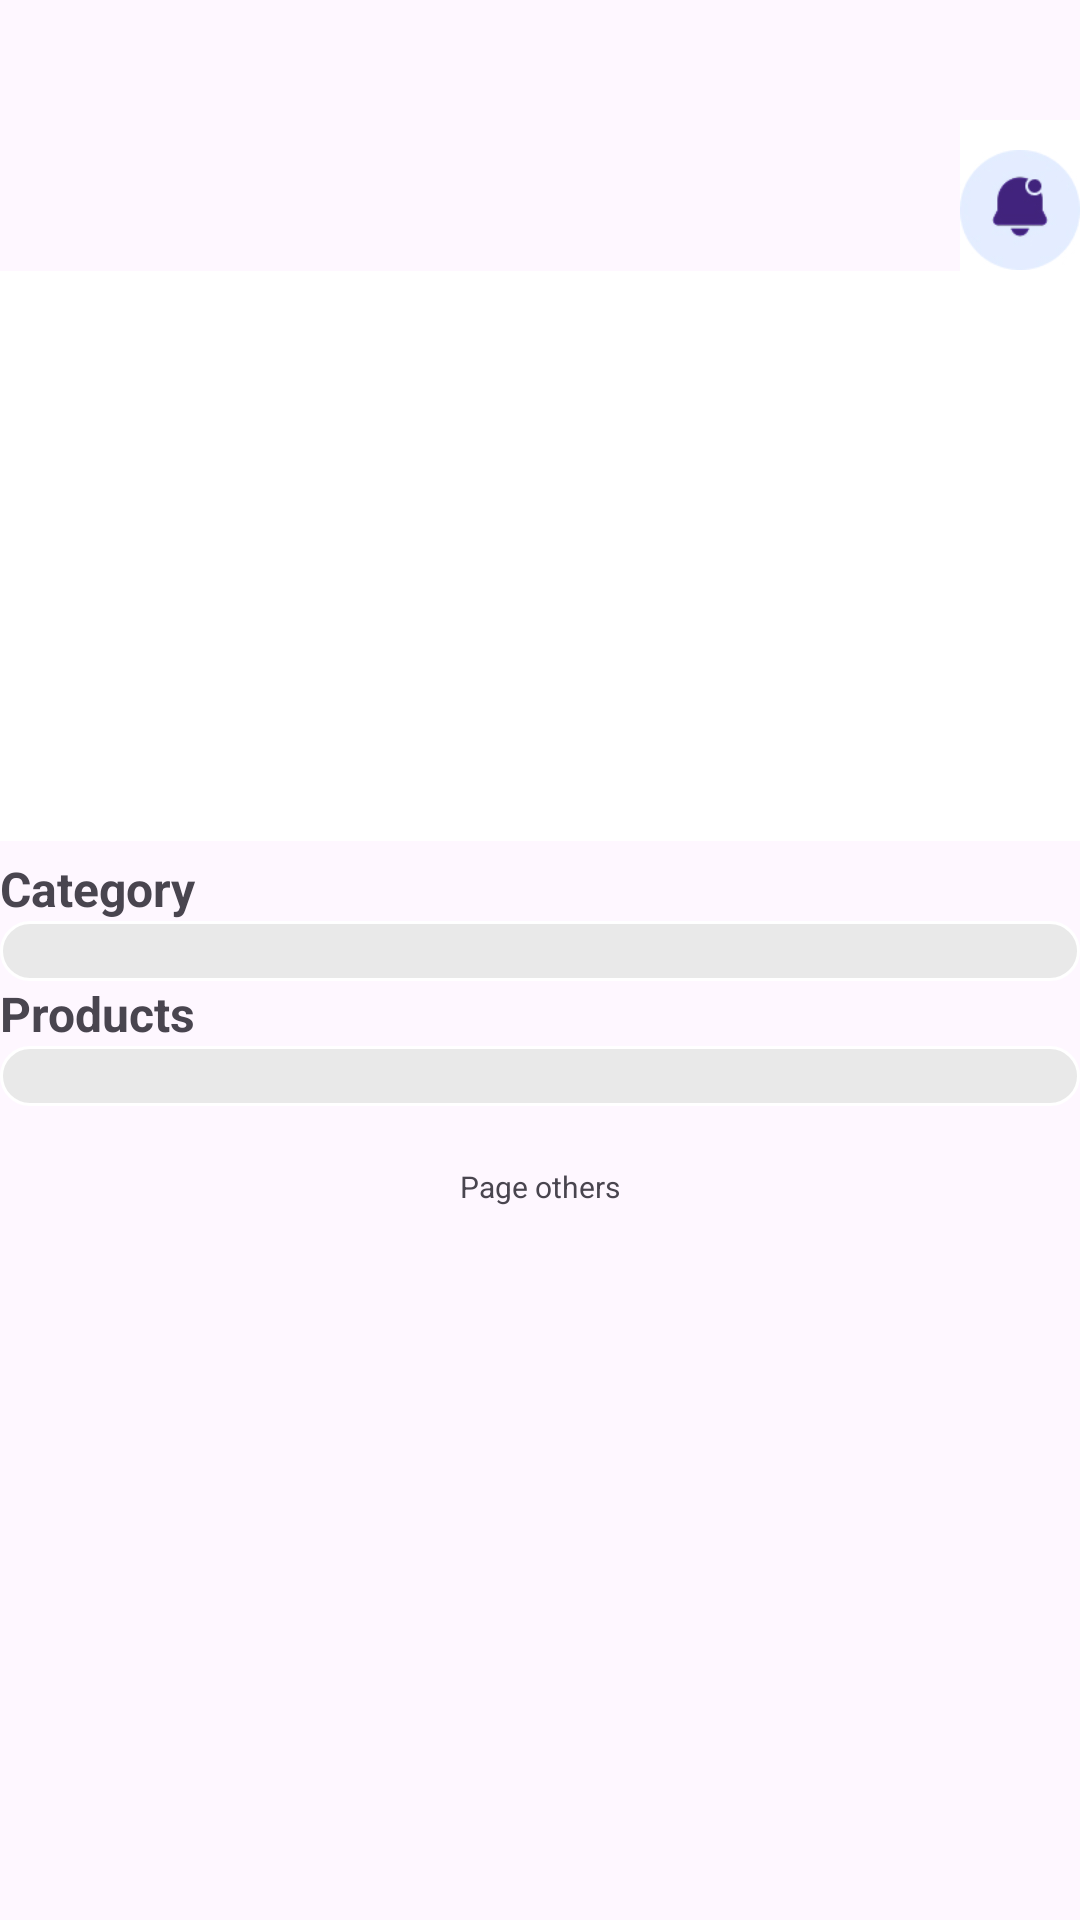

Locate icon controls on the screen. Image size 1080×1920, boxes as [left=x1, top=y1, right=x2, bottom=y2].
bell: [left=960, top=150, right=1080, bottom=270]
